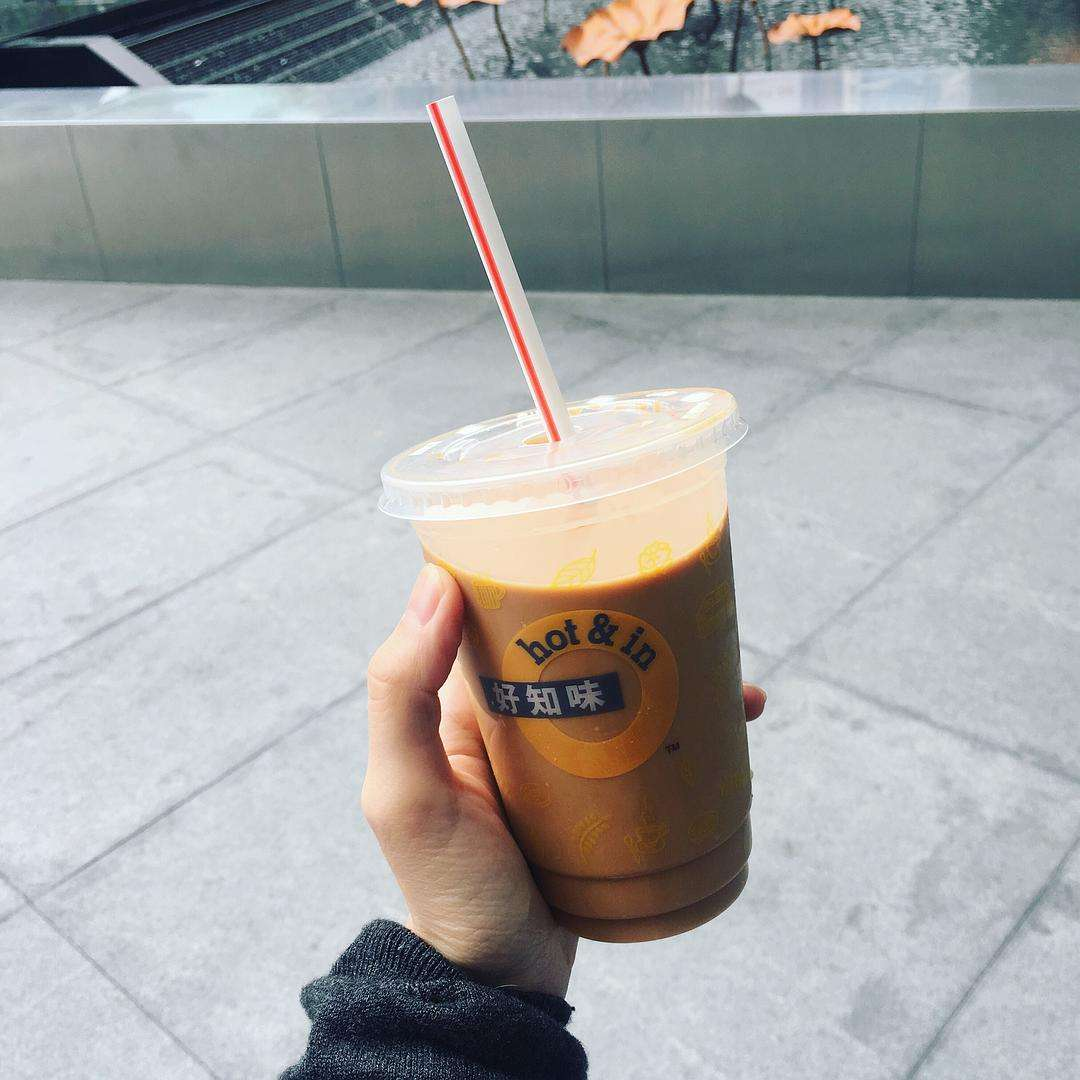no-phone: (338, 357, 774, 988)
